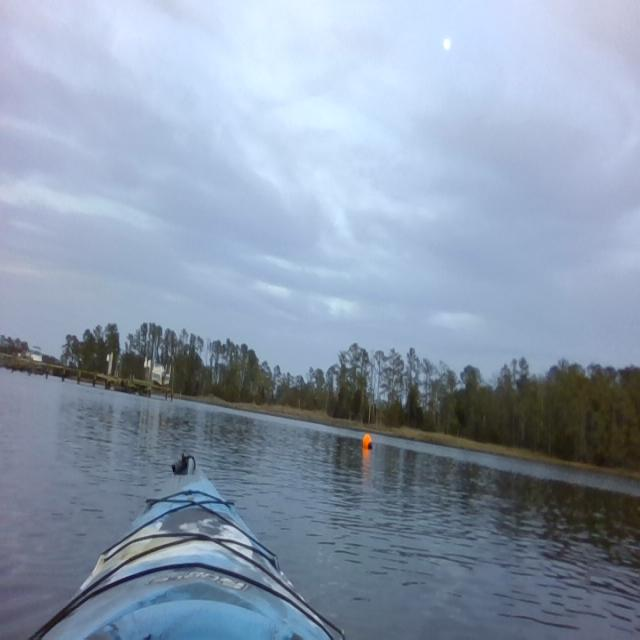Buoy: (362, 431, 374, 453)
